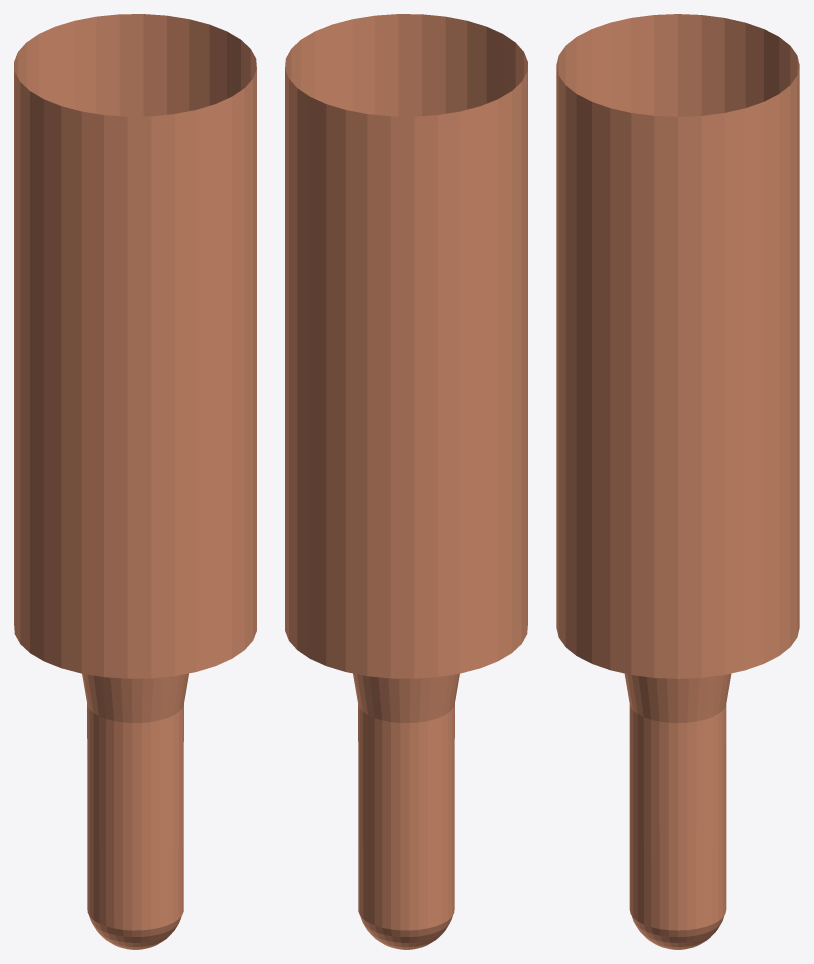
Rendered from bellan.glb.
3 views of the same model, side by side, from view 1: azimuth 30°, elevation 25°; view 2: azimuth 150°, elevation 25°; view 3: azimuth 270°, elevation 25° (orthographic).
Parts seen in each view (by area): view 1: Cylinder; view 2: Cylinder; view 3: Cylinder.
Part boxes in pixels (left/top/right/bottom): Cylinder: left=14, top=14, right=256, bottom=949; Cylinder: left=285, top=14, right=527, bottom=949; Cylinder: left=556, top=14, right=799, bottom=949.
Size of the model in its own units: 0.7792 by 3.11 by 0.7792.
